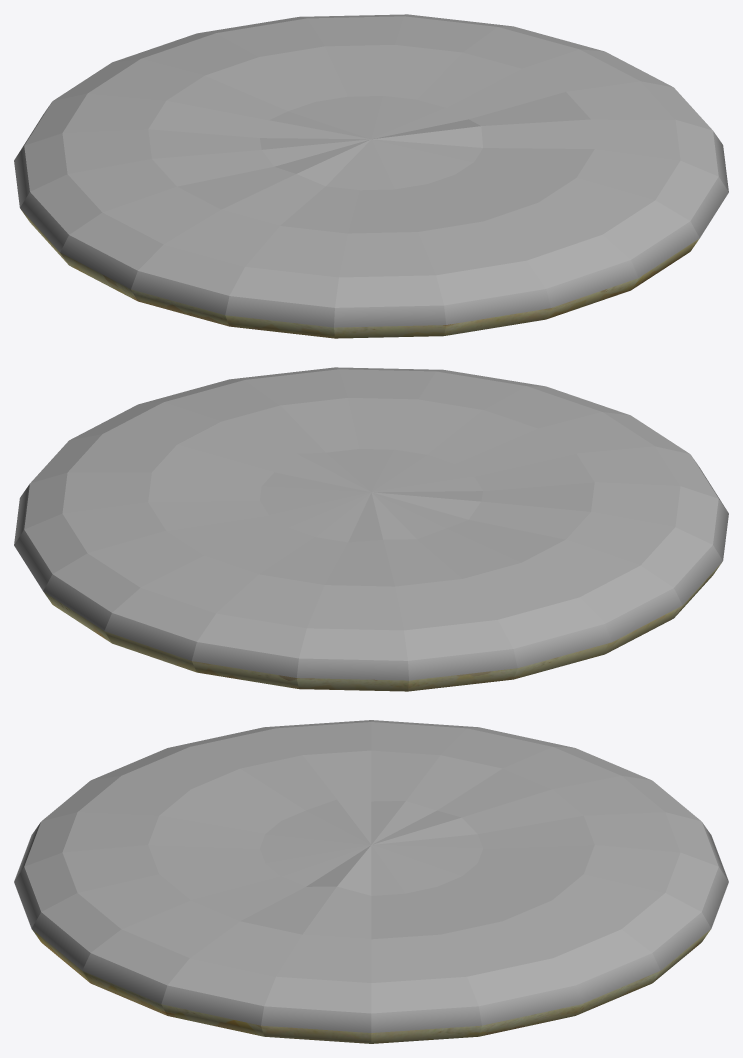
The model's file is ENV_Pancake_01.fbx.
3 views of the same model, one above another, from view 1: azimuth 30°, elevation 25°; view 2: azimuth 150°, elevation 25°; view 3: azimuth 270°, elevation 25° (orthographic).
Parts seen in each view (by area): view 1: ENV_Pancake_01; view 2: ENV_Pancake_01; view 3: ENV_Pancake_01.
Part boxes in pixels (x1,y1,x2,y2): ENV_Pancake_01: [14, 14, 728, 338]; ENV_Pancake_01: [14, 367, 728, 691]; ENV_Pancake_01: [14, 720, 728, 1043].
Bounding box in the file's own units: 39.14 × 4.87 × 39.14.
2 materials, 1 textured.
